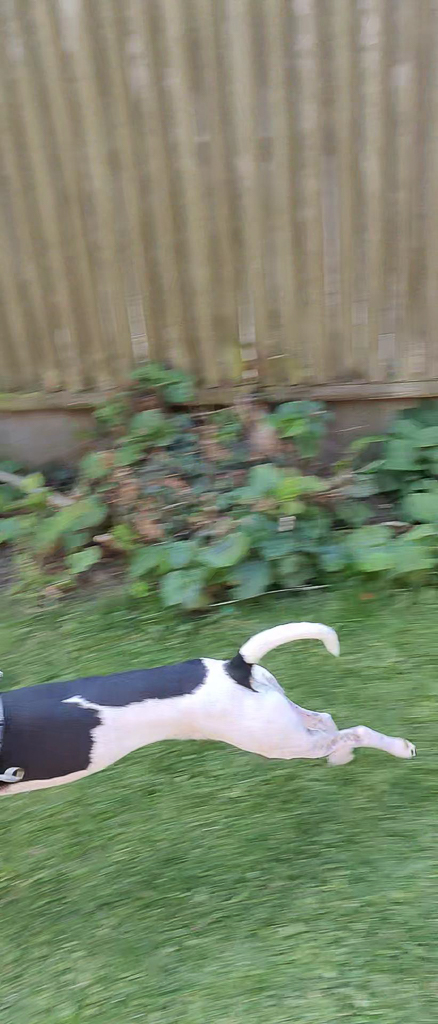Dog: (0, 610, 426, 829)
